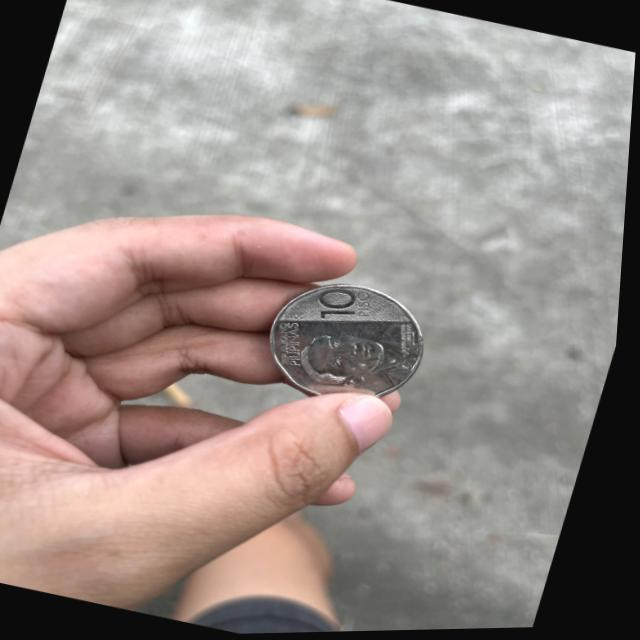10_New_Front: (317, 281, 385, 331)
